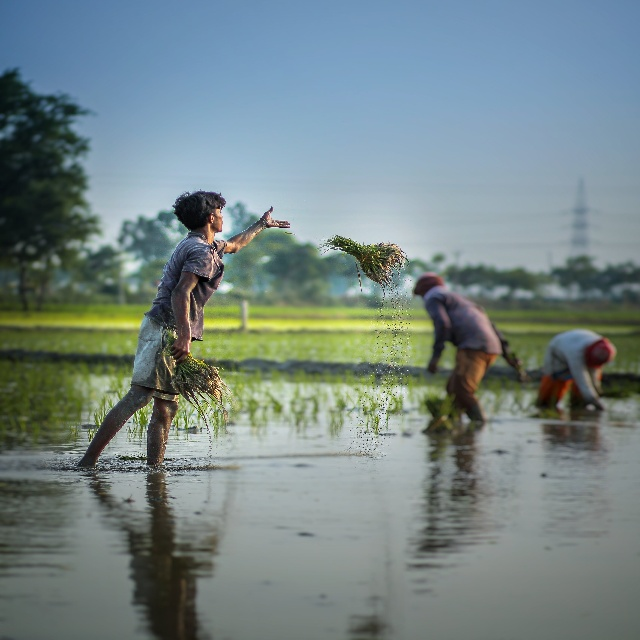Sin_guantes: (262, 206, 291, 230), (170, 335, 191, 366)
